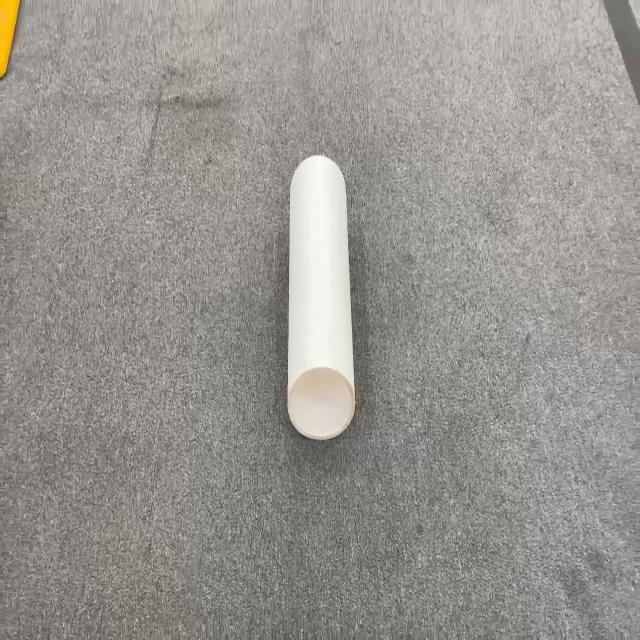coral: (286, 153, 356, 440)
